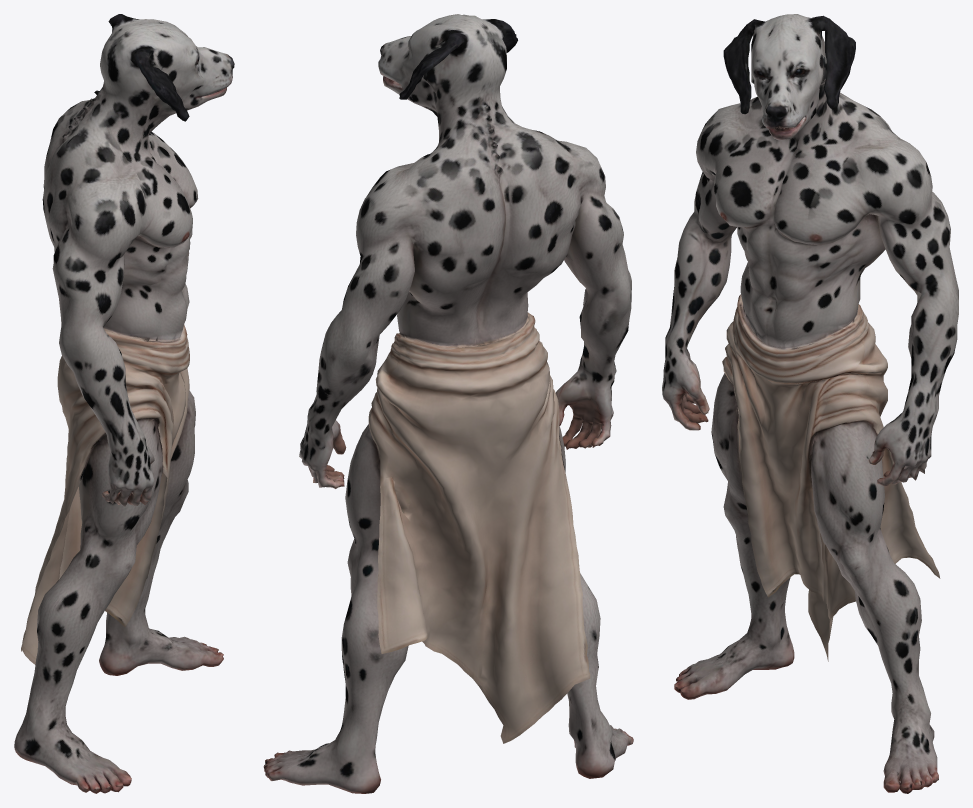
File: prodavac_psu_dalmatin.glb
3 renders of one model, left to right at view 1: azimuth 30°, elevation 25°; view 2: azimuth 150°, elevation 25°; view 3: azimuth 270°, elevation 25°, orthographic. The views are drawn at different scales.
Visible parts, largest first — view 1: Model_0; view 2: Model_0; view 3: Model_0.
Boxes of the visible parts, box(x1,y1,x2,y2) form: Model_0: box(14, 14, 234, 793); Model_0: box(263, 14, 633, 793); Model_0: box(662, 14, 958, 793).
Bounding box in the file's own units: 0.708 × 1.8 × 0.6799.
Materials: 1 (1 with a texture image).
